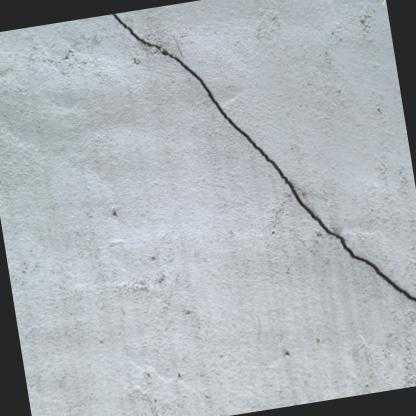crack: (106, 12, 416, 304)
